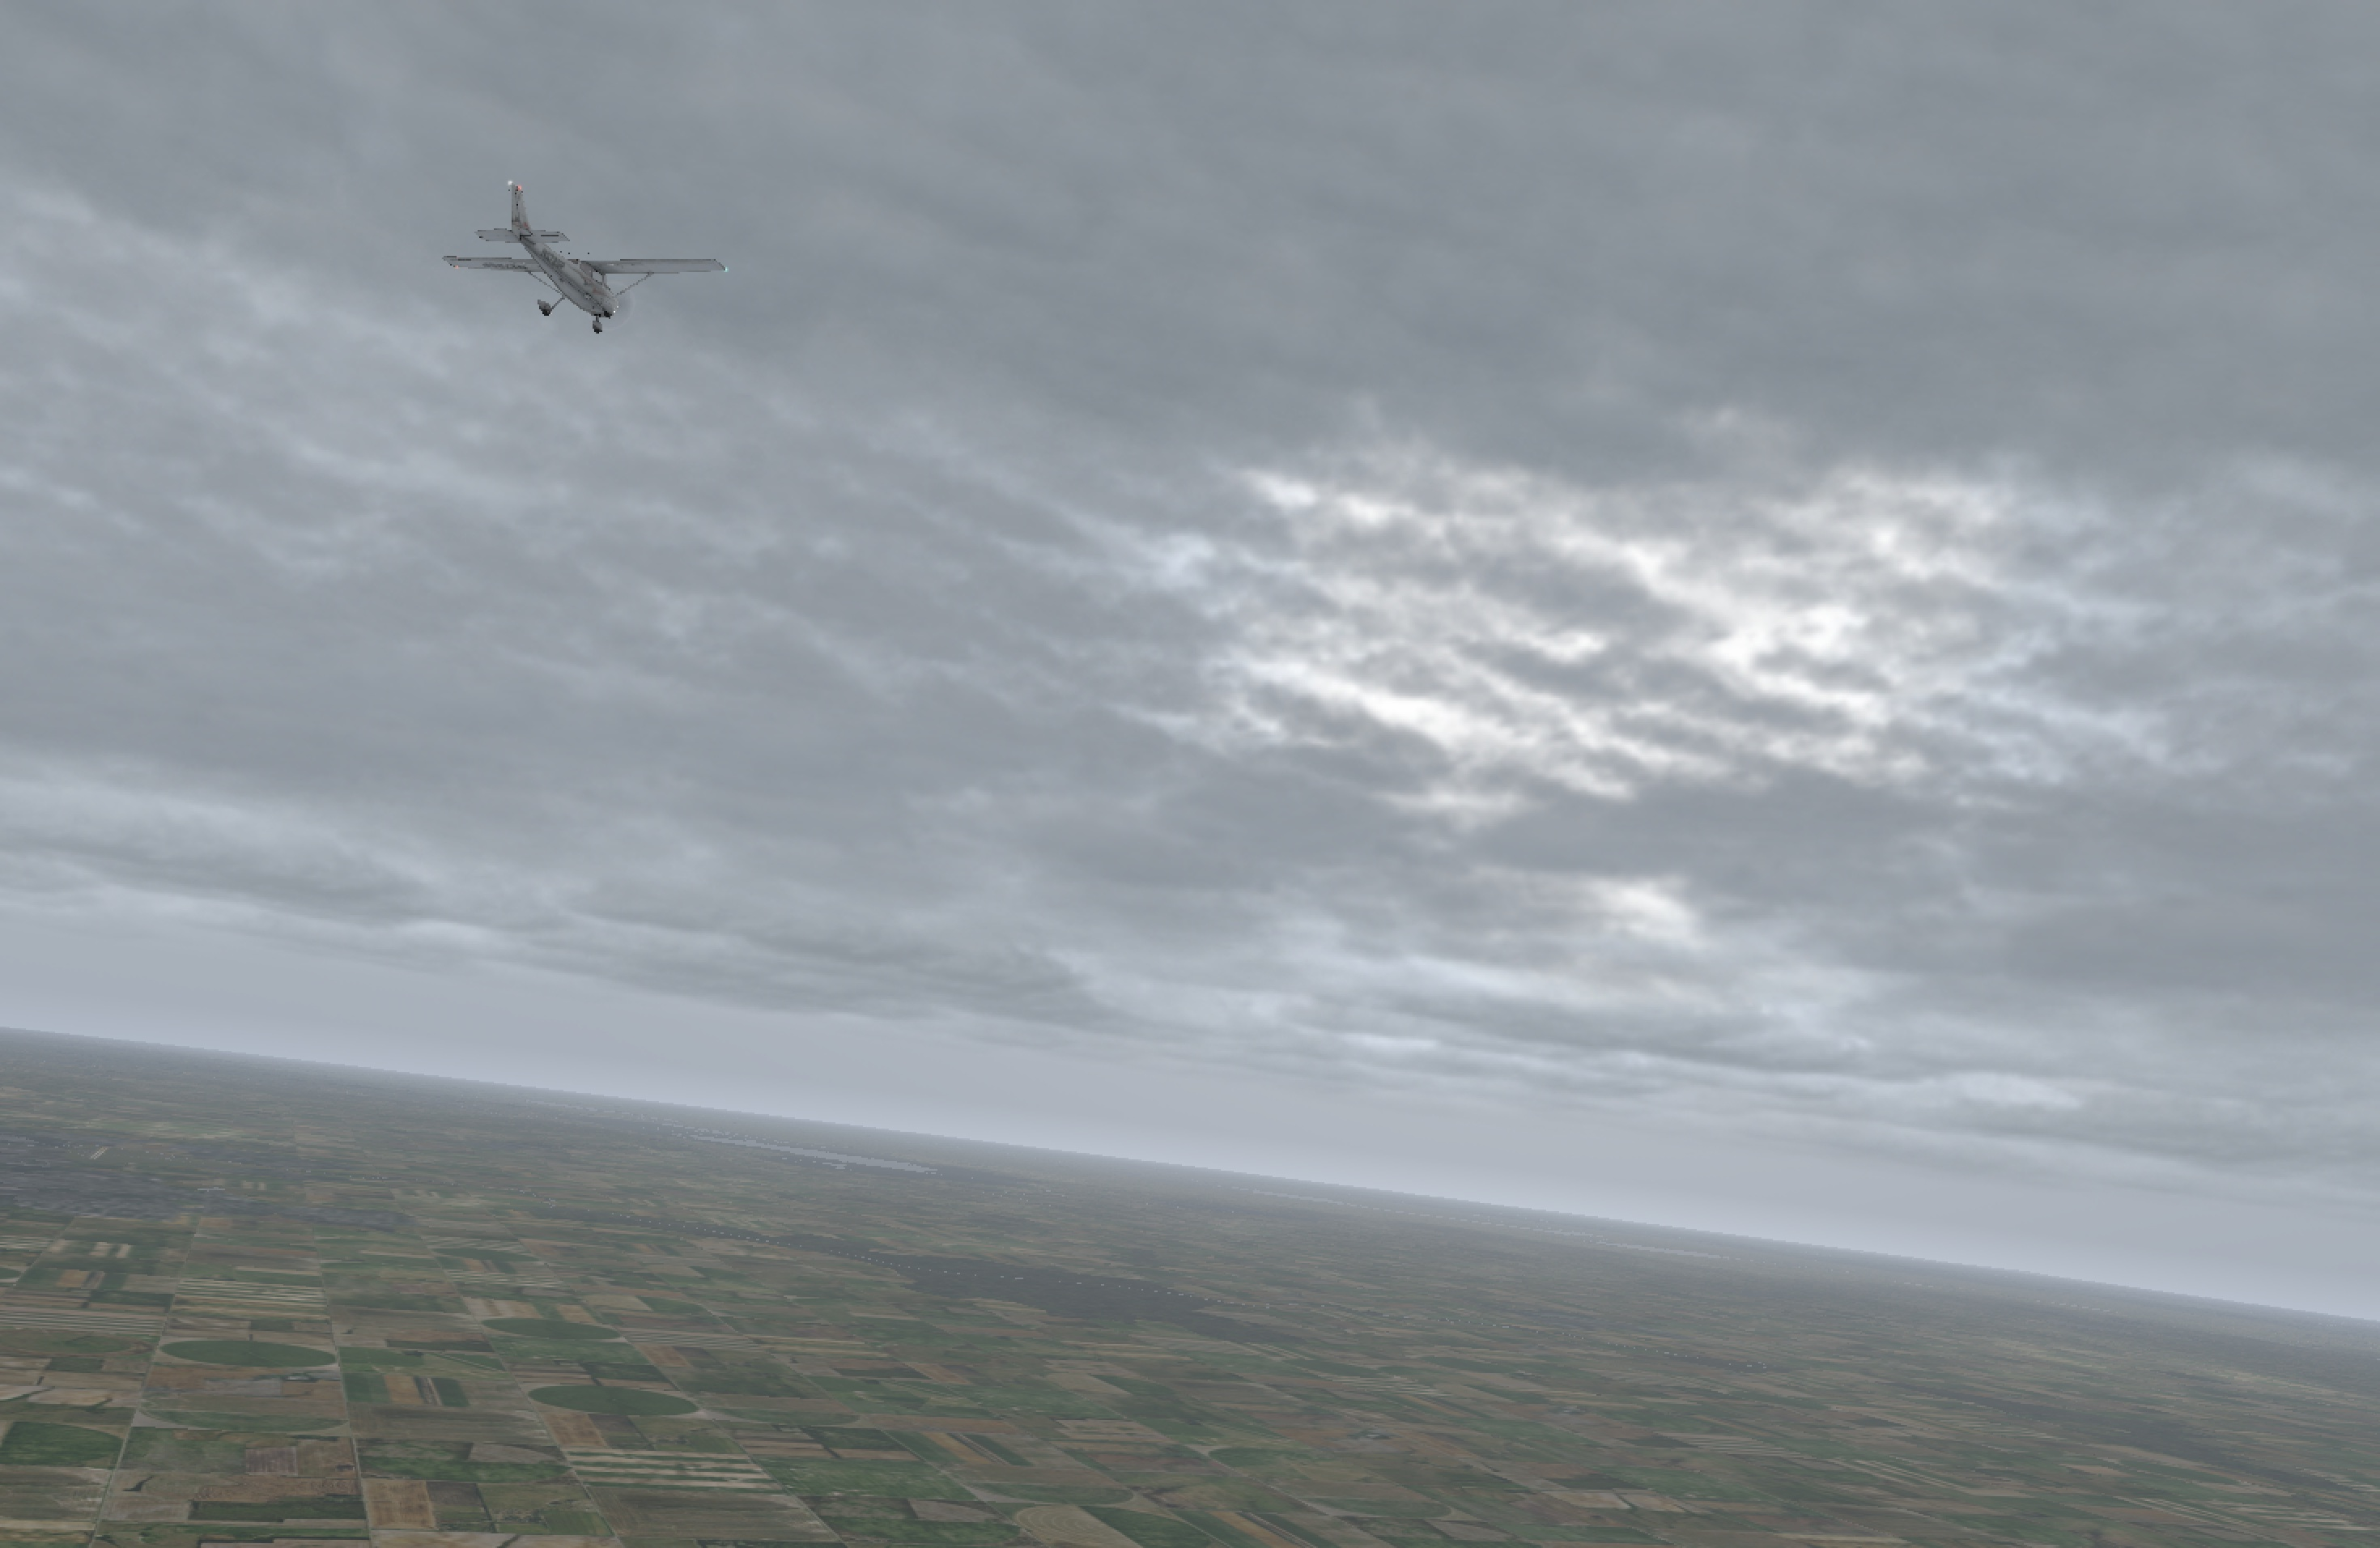aircraft: (486, 246, 683, 321)
